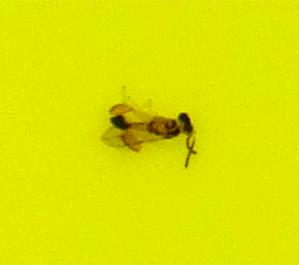Hymenoptera: (100, 100, 199, 165)
